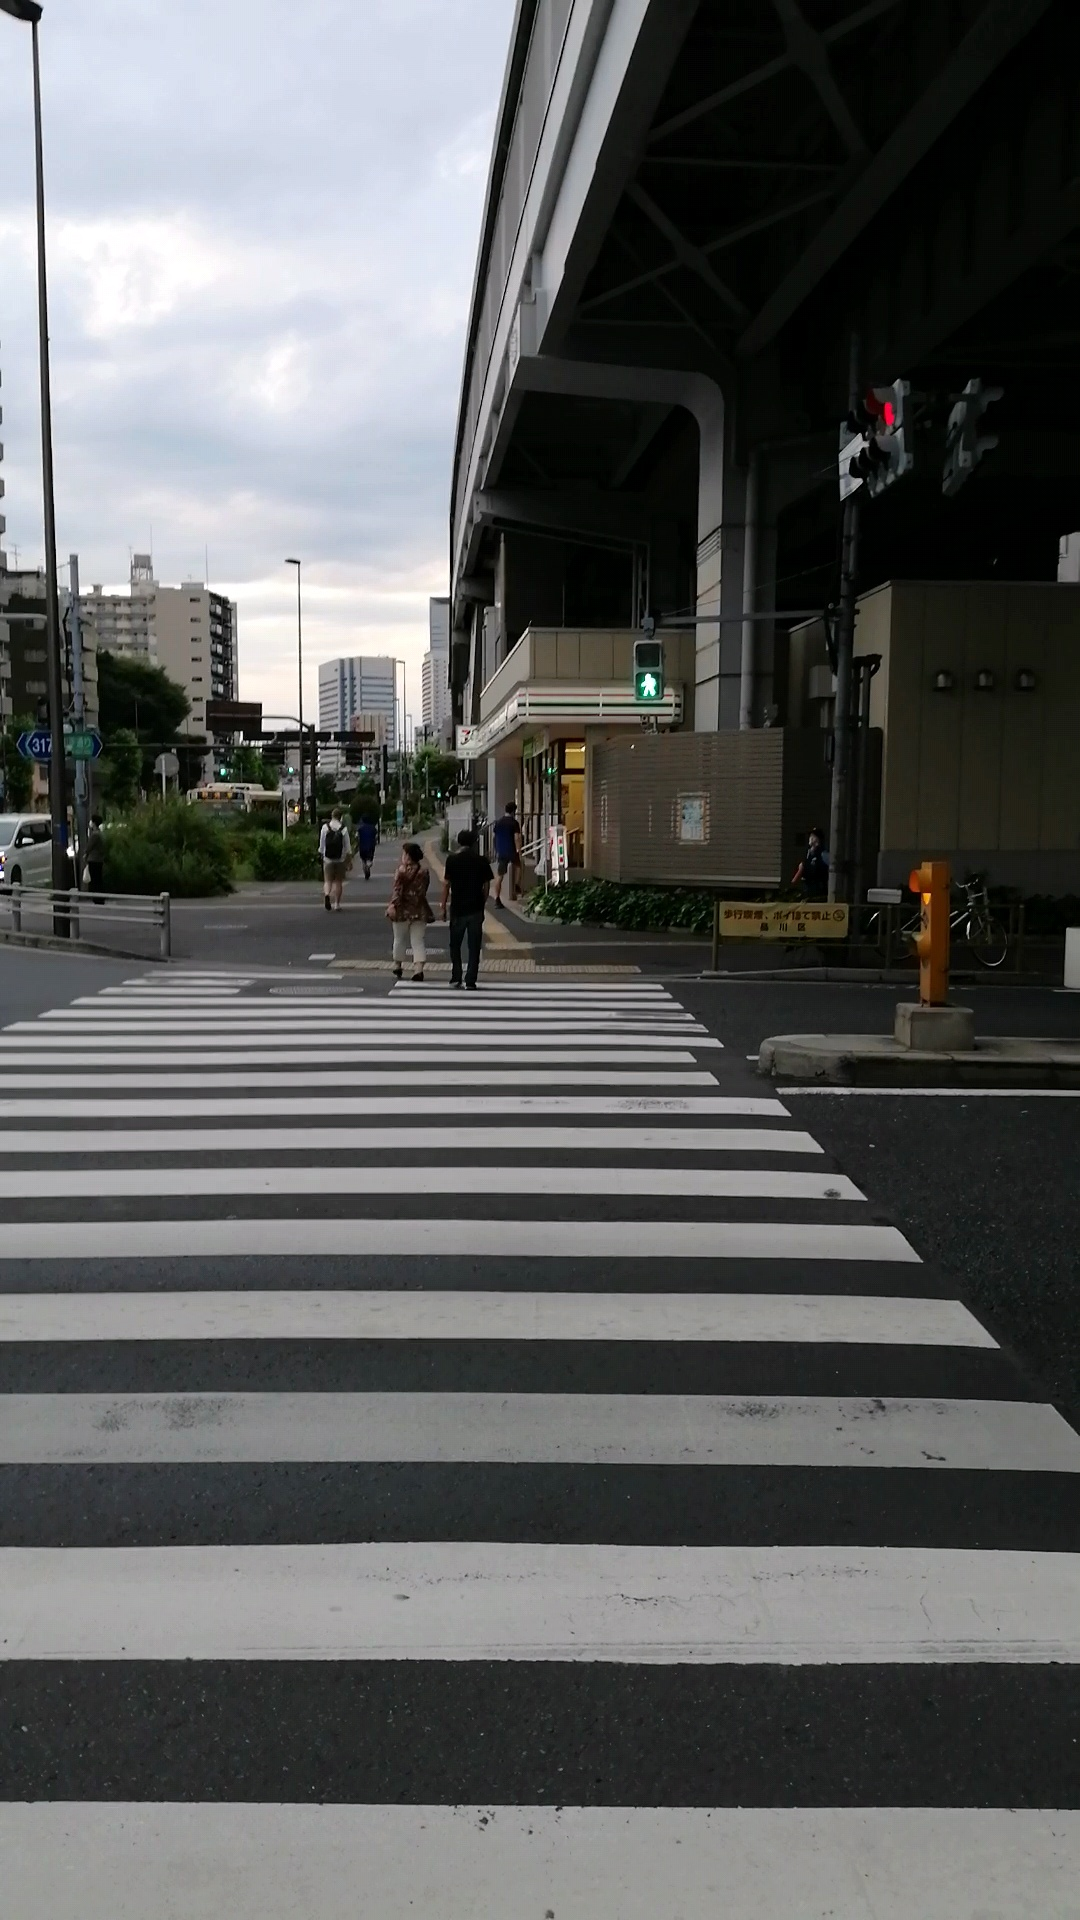green: (632, 640, 665, 702)
